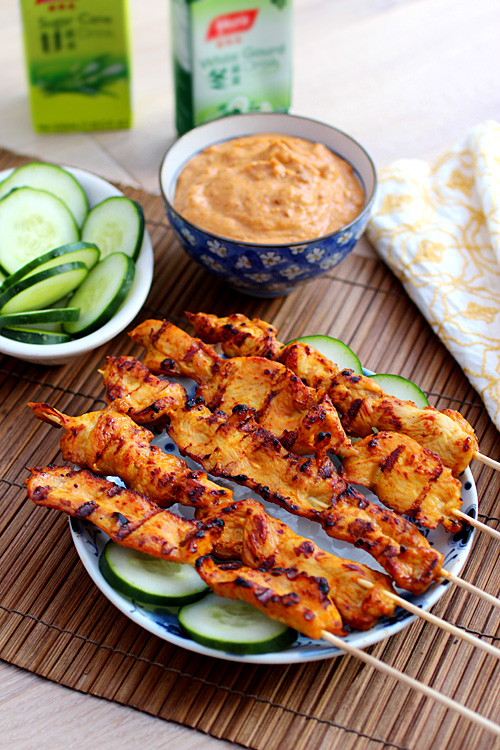sate: (28, 317, 500, 731)
